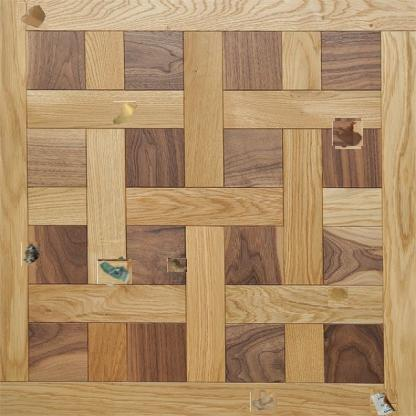dirty: (100, 256, 130, 287), (17, 2, 47, 30), (371, 389, 398, 416), (112, 101, 136, 126), (252, 390, 276, 413), (21, 242, 40, 266), (167, 258, 187, 272)
liquid: (334, 119, 362, 148), (328, 287, 348, 307)
